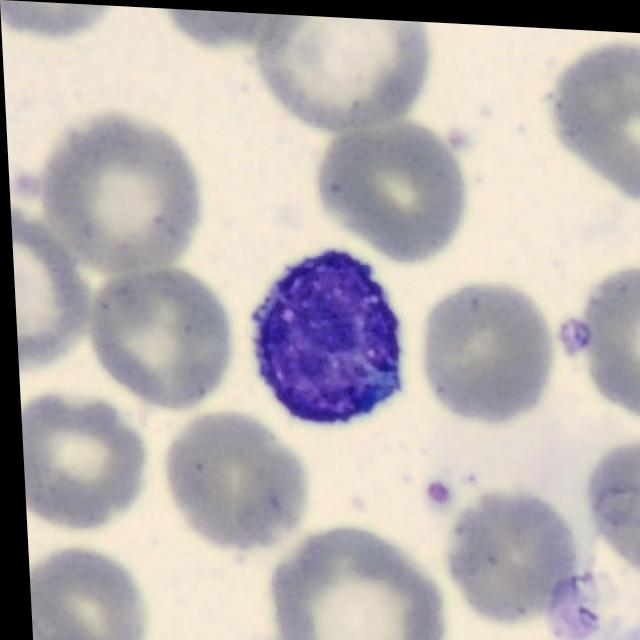Linfocito: (247, 248, 399, 422)
